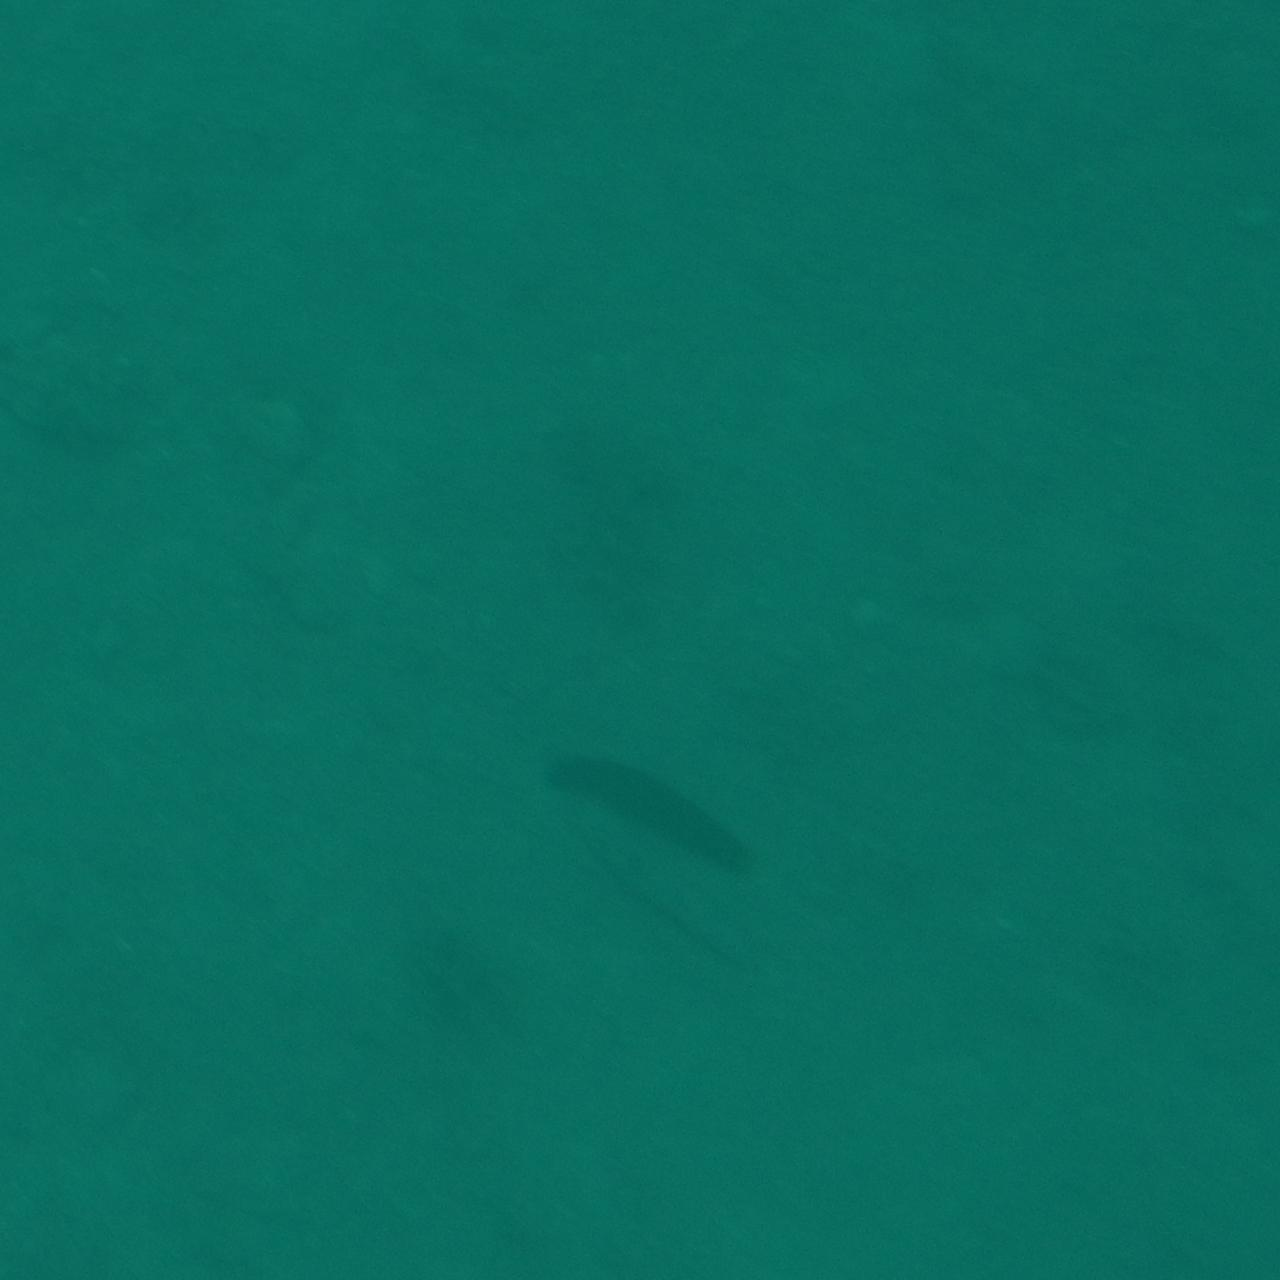Holothuria tubulosa: (522, 742, 758, 880)
